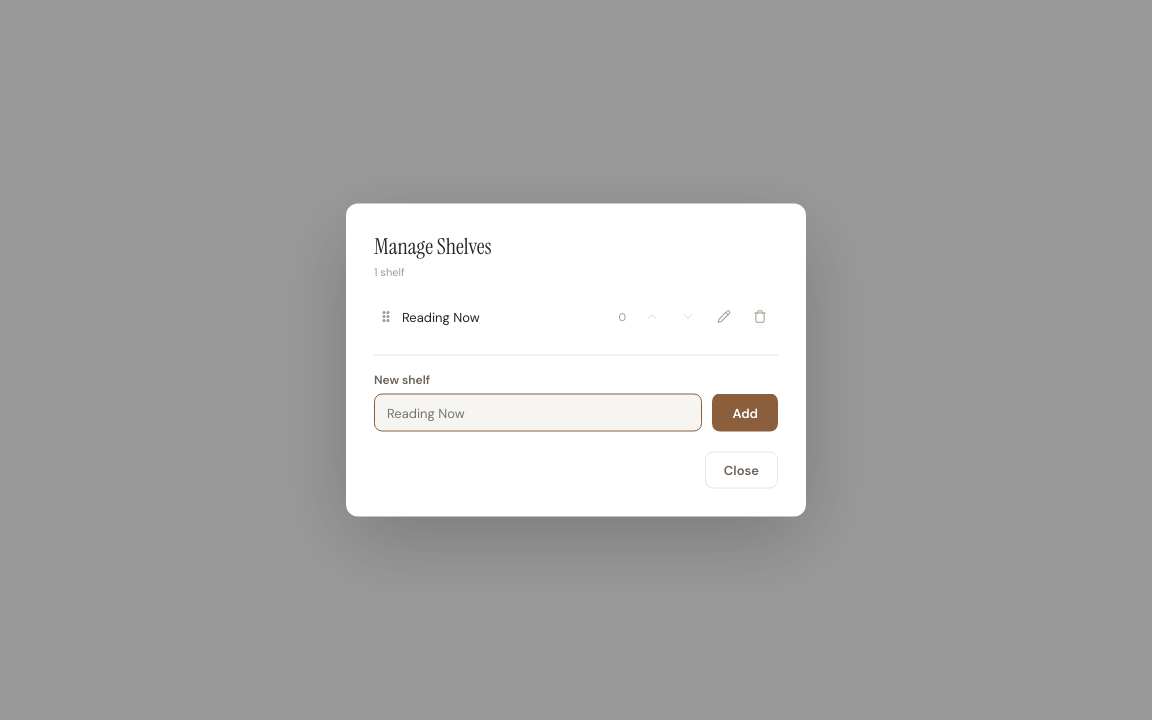
Test: ShelfManager › publishes a shelf, and marks it in the list afterwards
Expected: the text "Reading Now" is shown, [402, 308, 480, 325]
What coordinates should you click on to do the following:
click the button named "Edit Reading Now"
I would click on:
 (724, 316)
Its box is [710, 302, 738, 330].
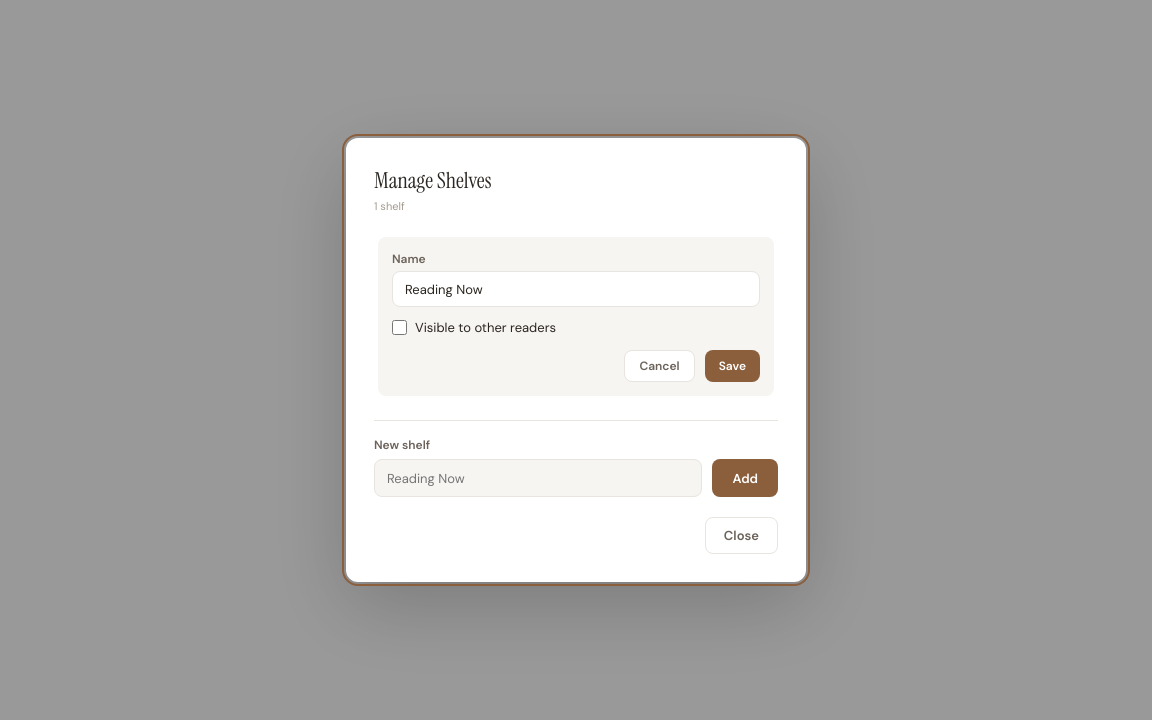
What coordinates should you click on to do the following:
click the checkbox labelled "Visible to other readers"
I would click on:
 (400, 328)
Its box is [392, 320, 407, 335].
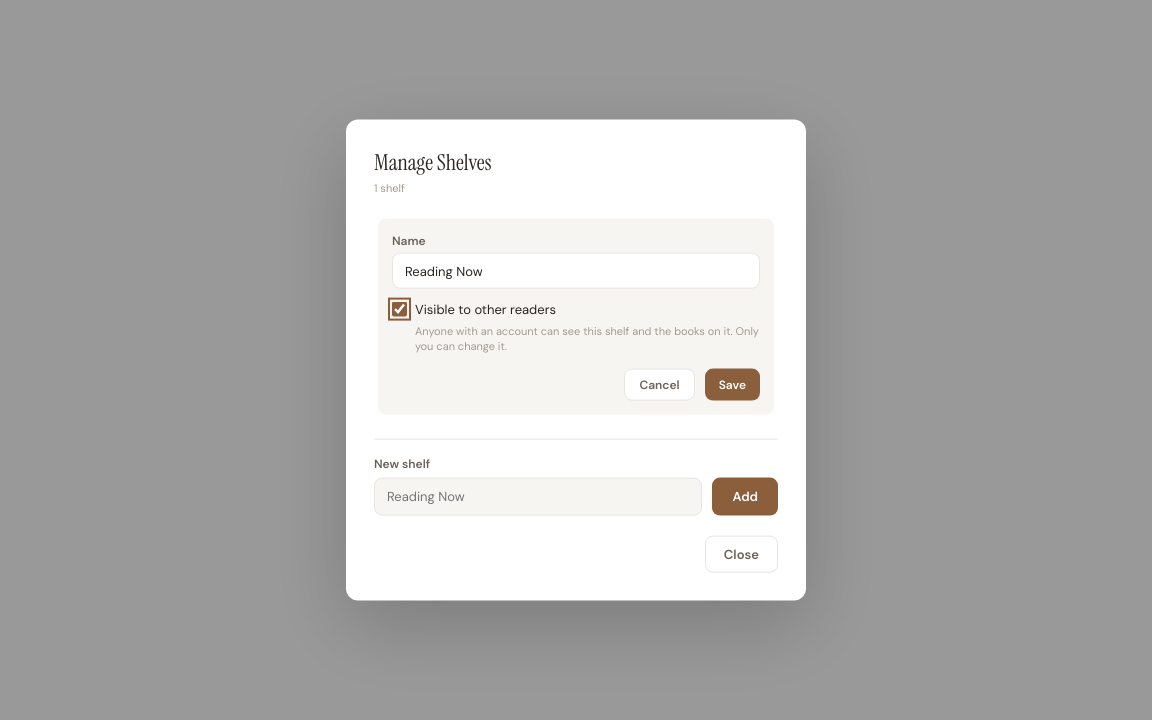
What coordinates should you click on to do the following:
click the button "Save"
I would click on:
 (732, 384)
Its box is [705, 368, 760, 400].
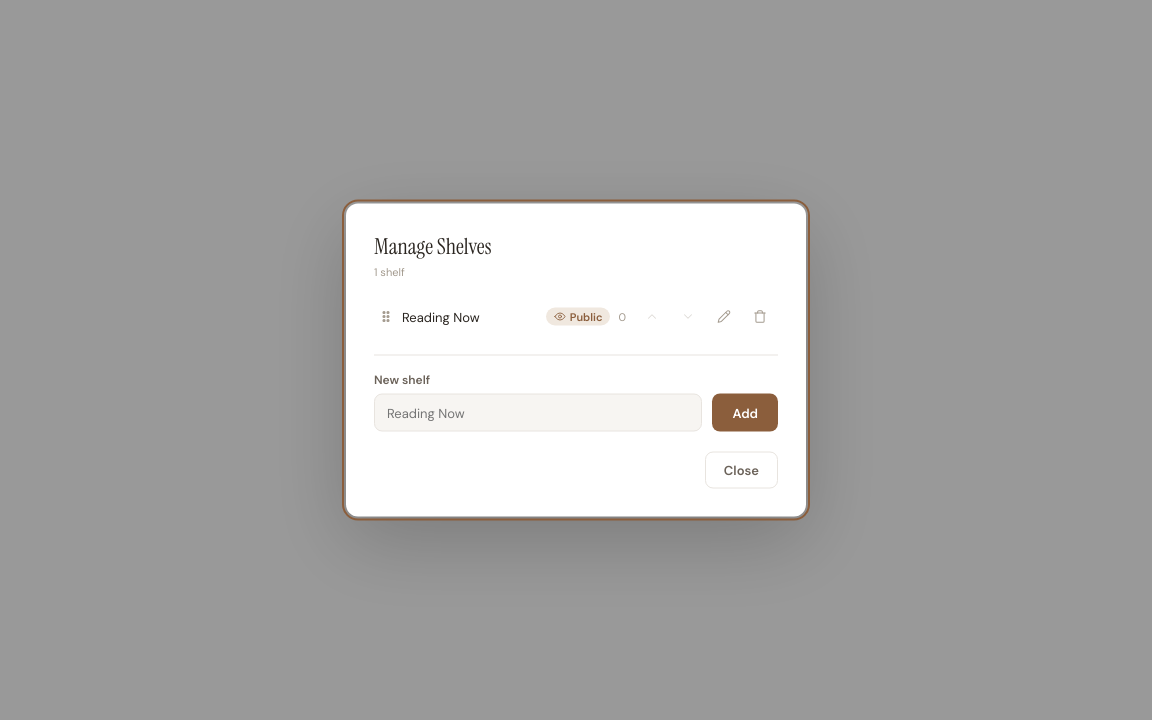
Now the text "Public" is shown, box [546, 308, 610, 326]
